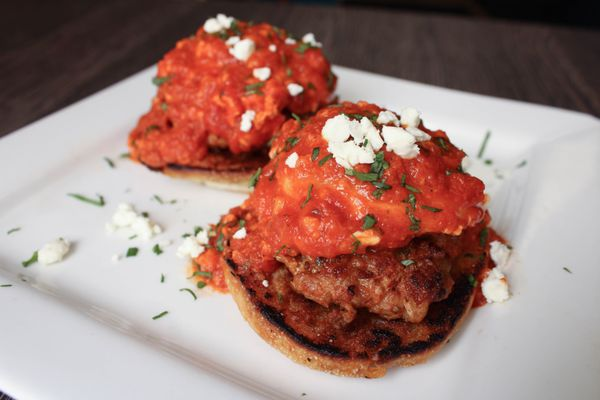curry: (15, 5, 599, 389)
